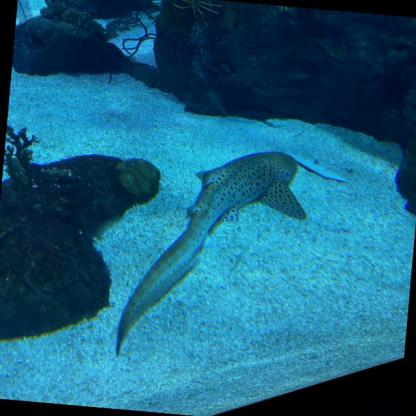fish: (102, 134, 310, 368)
